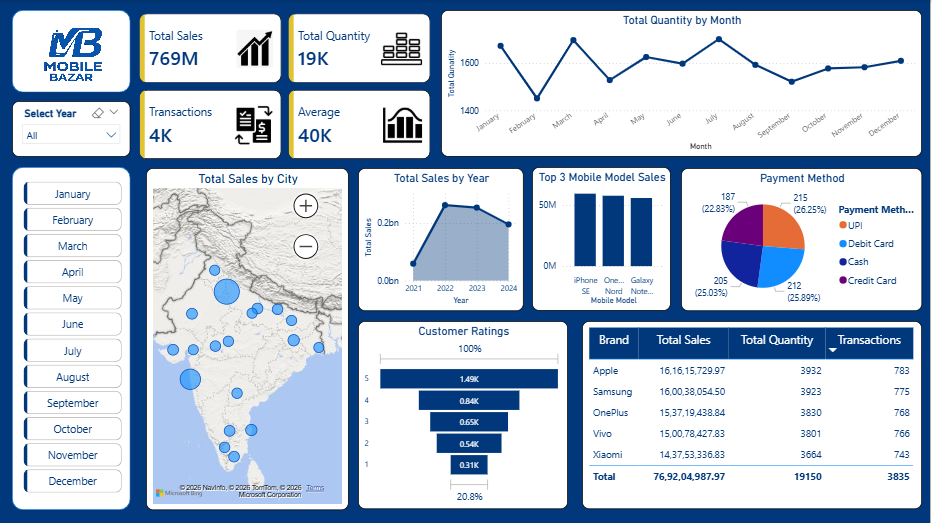

The dashboard page shown, as its layout file describes it:
{"tool":"powerbi","page":{"name":"Page 1","canvas":[1280,720],"ordinal":0},"visuals":[{"type":"shape","box":[17,229.6,163,472],"z":0},{"type":"shape","box":[17,14.2,163,113.4],"z":1000},{"type":"advancedSlicerVisual","fields":{"Values":["Mobile Sales.Date.Variation.Date Hierarchy.Month"]},"box":[26.9,245.2,146,447.9],"z":2000},{"type":"cardVisual","fields":{"Data":["Mobile Sales.Total Sales","Mobile Sales.Total Quantity","Mobile Sales.Transactions","Mobile Sales.Average"]},"box":[187.1,14.2,402.5,215.4],"z":3000},{"type":"map","title":"Total Sales by City","fields":{"Category":["Mobile Sales.City"],"Size":["Mobile Sales.Total Sales"]},"box":[201.3,231,279.2,470.6],"z":4000},{"type":"lineChart","fields":{"Category":["Mobile Sales.Date.Variation.Date Hierarchy.Month"],"Y":["Mobile Sales.Total Quantity"]},"box":[603.8,14.2,664.7,201.3],"z":5000},{"type":"tableEx","fields":{"Values":["Mobile Sales.Brand","Mobile Sales.Total Sales","Mobile Sales.Total Quantity","Mobile Sales.Transactions"]},"box":[800.8,442.2,467.7,259.4],"z":6000},{"type":"clusteredColumnChart","title":"Top 3 Mobile Model  Sales","fields":{"Category":["Mobile Sales.Mobile Model"],"Y":["Mobile Sales.Total Sales"]},"box":[732.8,229.6,191.3,198.4],"z":7000},{"type":"pieChart","title":"Payment Method","fields":{"Category":["Mobile Sales.Payment Method"],"Y":["Mobile Sales.Transactions"]},"box":[936.9,231,331.7,197],"z":8000},{"type":"funnel","title":"Customer Ratings","fields":{"Y":["CountNonNull(Mobile Sales.Customer Ratings)"],"Category":["Mobile Sales.Customer Ratings"]},"box":[493.2,442.2,289.1,259.4],"z":9000},{"type":"areaChart","fields":{"Y":["Mobile Sales.Total Sales"],"Category":["Mobile Sales.Date.Variation.Date Hierarchy.Year"]},"box":[493.2,231,228.2,197],"z":10000},{"type":"image","box":[0,0,202.7,157.3],"z":11000},{"type":"slicer","fields":{"Values":["Mobile Sales.Date.Variation.Date Hierarchy.Year"]},"box":[17,138.9,163,76.5],"z":11001}]}

Visuals, with their boxes in screenshot pixels (x1, y1, x2, y2), scaled from the page's 1280x720 canvas onto the 932x523 screenshot:
shape: {"left": 12, "top": 167, "right": 131, "bottom": 510}
shape: {"left": 12, "top": 10, "right": 131, "bottom": 93}
advancedSlicerVisual - Mobile Sales.Date.Variation.Date Hierarchy.Month: {"left": 20, "top": 178, "right": 126, "bottom": 503}
cardVisual - Mobile Sales.Total Sales x Mobile Sales.Total Quantity: {"left": 136, "top": 10, "right": 429, "bottom": 167}
"Total Sales by City" map: {"left": 147, "top": 168, "right": 350, "bottom": 510}
lineChart - Mobile Sales.Date.Variation.Date Hierarchy.Month x Mobile Sales.Total Quantity: {"left": 440, "top": 10, "right": 924, "bottom": 157}
tableEx - Mobile Sales.Brand x Mobile Sales.Total Sales: {"left": 583, "top": 321, "right": 924, "bottom": 510}
"Top 3 Mobile Model  Sales" clusteredColumnChart: {"left": 534, "top": 167, "right": 673, "bottom": 311}
"Payment Method" pieChart: {"left": 682, "top": 168, "right": 924, "bottom": 311}
"Customer Ratings" funnel: {"left": 359, "top": 321, "right": 570, "bottom": 510}
areaChart - Mobile Sales.Total Sales x Mobile Sales.Date.Variation.Date Hierarchy.Year: {"left": 359, "top": 168, "right": 525, "bottom": 311}
image: {"left": 0, "top": 0, "right": 148, "bottom": 114}
slicer - Mobile Sales.Date.Variation.Date Hierarchy.Year: {"left": 12, "top": 101, "right": 131, "bottom": 156}
